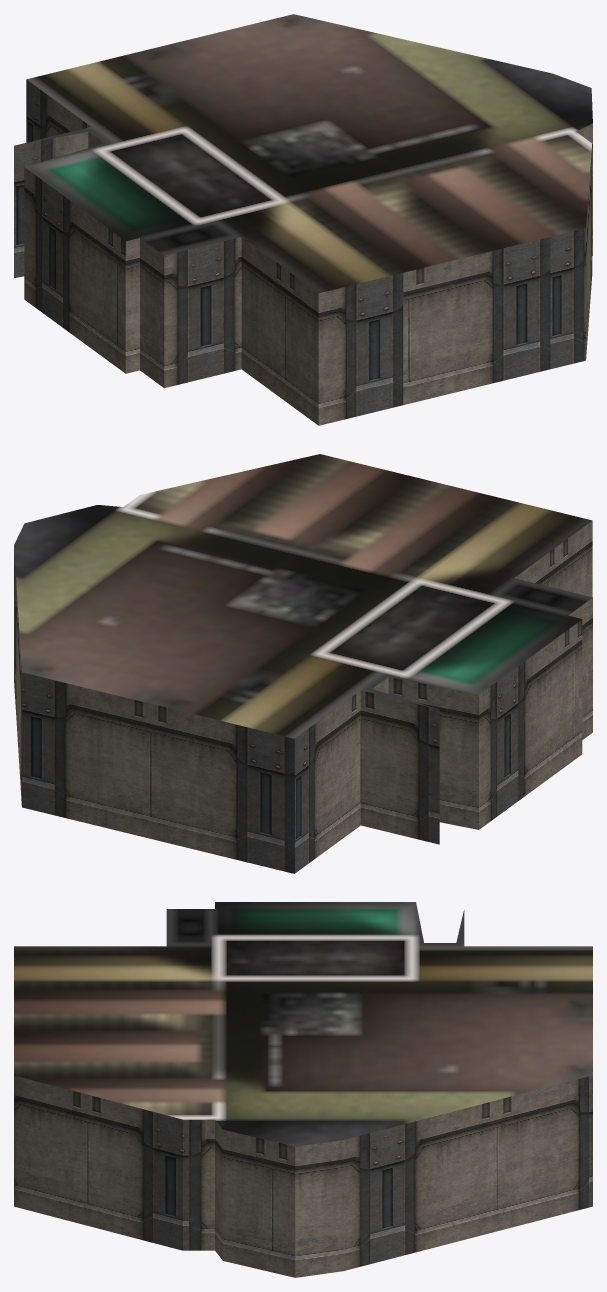
Rendered from BuildingSystem-03-Advance-03-Heavy-3-43-02.glb.
3 renders of one model, top to bottom at view 1: azimuth 30°, elevation 25°; view 2: azimuth 150°, elevation 25°; view 3: azimuth 270°, elevation 25°, orthographic. The views are drawn at different scales.
Parts seen in each view (by area): view 1: buildings/saxarba/SMV_Buildings/BuildingSystem-03-Advance-03; view 2: buildings/saxarba/SMV_Buildings/BuildingSystem-03-Advance-03; view 3: buildings/saxarba/SMV_Buildings/BuildingSystem-03-Advance-03.
Boxes of the visible parts, <box> form: buildings/saxarba/SMV_Buildings/BuildingSystem-03-Advance-03: <box>14,14,592,425</box>; buildings/saxarba/SMV_Buildings/BuildingSystem-03-Advance-03: <box>14,454,592,873</box>; buildings/saxarba/SMV_Buildings/BuildingSystem-03-Advance-03: <box>14,902,592,1277</box>.
Size of the model in its own units: 72 by 18 by 72.
